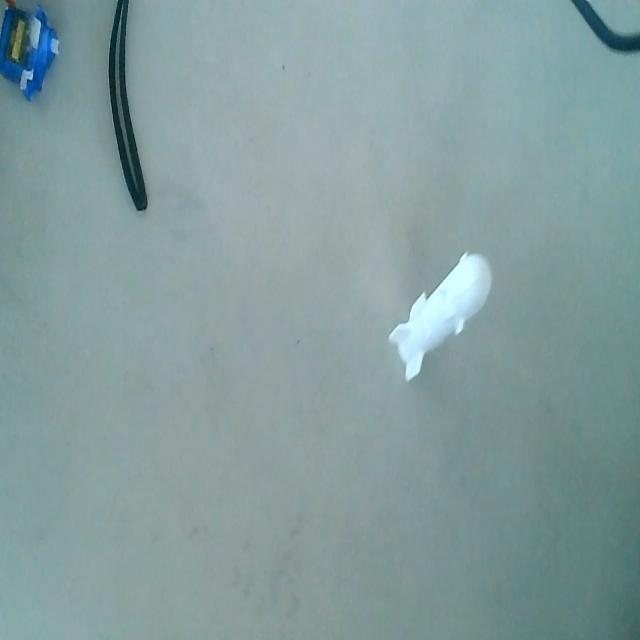Rocket: (387, 242, 497, 398)
